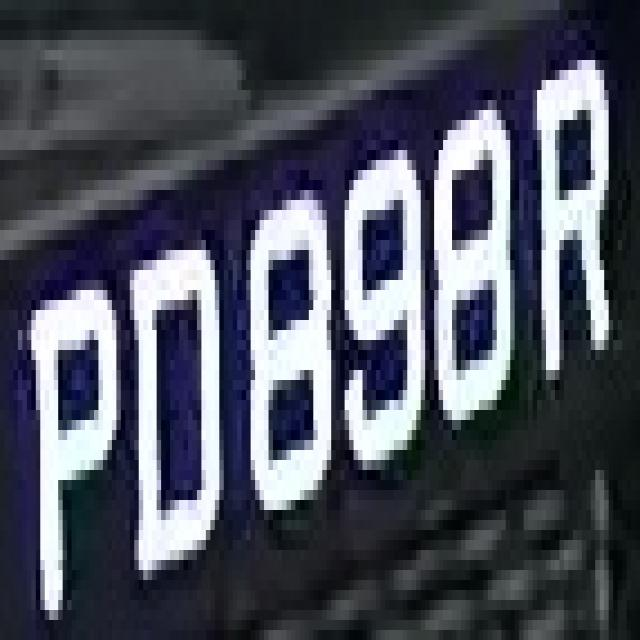8: (242, 170, 340, 530), (416, 90, 515, 440)
9: (331, 150, 430, 500)
D: (121, 220, 237, 580)
P: (14, 250, 126, 630)
R: (533, 40, 622, 410)
